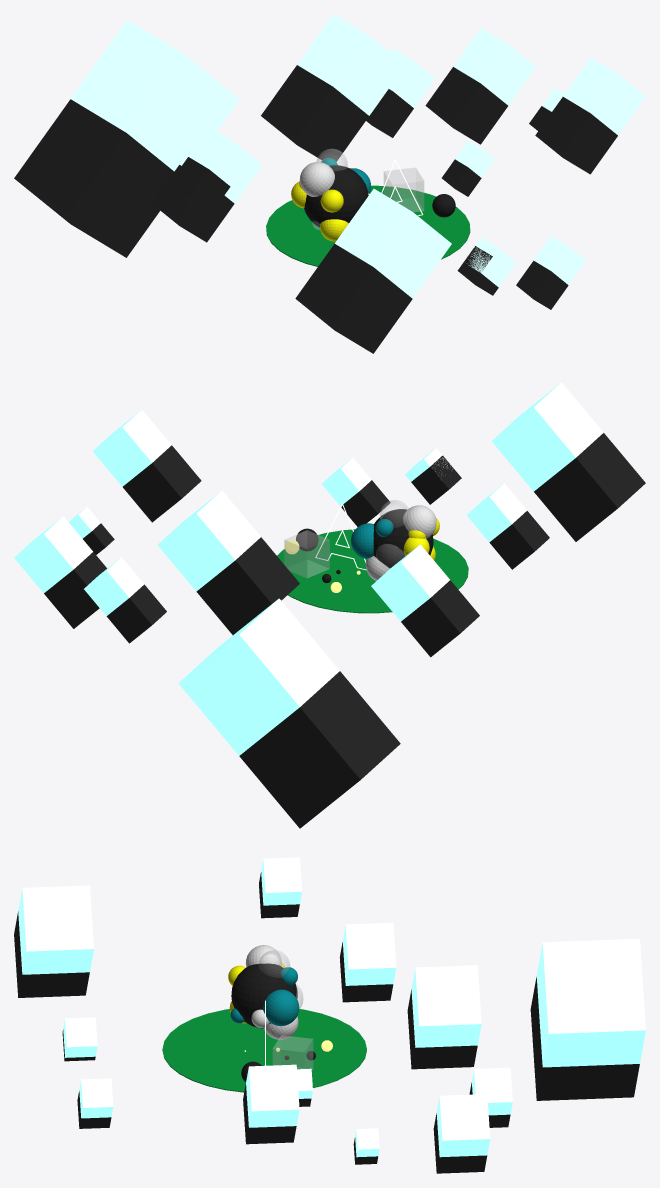
The model's file is good_2.gltf.
The picture shows the model from 3 angles, top to bottom: view 1: azimuth 30°, elevation 25°; view 2: azimuth 150°, elevation 25°; view 3: azimuth 270°, elevation 25°; orthographic projection. The views are drawn at different scales.
Visible parts, largest first — view 1: Cube.008, Cube.009, Cube.012, Cube.013, Cube.010, Cube.011, Cylinder, Cube.004, Cube.006, Cube.007, Cube.005, Cube.001 (+14 smaller); view 2: Cube.009, Cube.008, Cylinder, Cube.013, Cube.012, Cube.011, Cube.010, Cube.024, Cube.005, Cube.007, Cube.001, Cube.004 (+12 smaller); view 3: Cube.009, Cylinder, Cube.013, Cube.011, Cube.008, Cube.005, Cube.024, Cube.007, b_sphere, Cube.012, Cube.026, Cube.010 (+12 smaller).
Part boxes in pixels (x1=…): Cube.008: x1=14, y1=99, x2=174, y2=257; Cube.009: x1=71, y1=20, x2=239, y2=171; Cube.012: x1=295, y1=243, x2=412, y2=353; Cube.013: x1=335, y1=189, x2=451, y2=298; Cube.010: x1=261, y1=65, x2=368, y2=161; Cube.011: x1=297, y1=14, x2=405, y2=115; Cylinder: x1=266, y1=185, x2=470, y2=266; Cube.004: x1=535, y1=97, x2=617, y2=174; Cube.006: x1=425, y1=67, x2=507, y2=144; Cube.007: x1=453, y1=28, x2=535, y2=105; Cube.005: x1=563, y1=58, x2=645, y2=135; Cube.001: x1=152, y1=165, x2=234, y2=242; Cube.009: x1=178, y1=598, x2=339, y2=755; Cube.008: x1=239, y1=671, x2=400, y2=828; Cylinder: x1=277, y1=529, x2=468, y2=613; Cube.013: x1=491, y1=382, x2=603, y2=491; Cube.012: x1=534, y1=433, x2=645, y2=541; Cube.011: x1=157, y1=490, x2=260, y2=591; Cube.010: x1=196, y1=537, x2=299, y2=634; Cube.024: x1=371, y1=544, x2=449, y2=621; Cube.005: x1=92, y1=410, x2=171, y2=486; Cube.007: x1=14, y1=516, x2=92, y2=593; Cube.001: x1=401, y1=580, x2=479, y2=657; Cube.004: x1=123, y1=445, x2=201, y2=522; Cube.009: x1=536, y1=938, x2=645, y2=1067; Cylinder: x1=162, y1=1009, x2=366, y2=1092; Cube.013: x1=18, y1=885, x2=93, y2=974; Cube.011: x1=411, y1=965, x2=481, y2=1047; Cube.008: x1=530, y1=977, x2=639, y2=1100; Cube.005: x1=246, y1=1064, x2=299, y2=1127; Cube.024: x1=342, y1=922, x2=396, y2=985; Cube.007: x1=436, y1=1094, x2=490, y2=1157; b_sphere: x1=231, y1=963, x2=297, y2=1028; Cube.012: x1=14, y1=911, x2=89, y2=997; Cube.026: x1=261, y1=857, x2=302, y2=905; Cube.010: x1=407, y1=989, x2=477, y2=1069.
Bounding box in the file's own units: 69.06 × 32.81 × 82.68.
